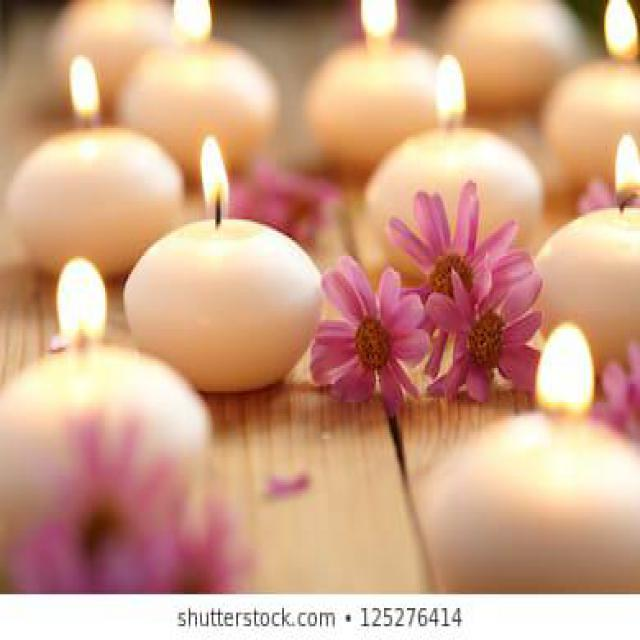Fire: (536, 324, 596, 416), (55, 257, 109, 346), (200, 138, 230, 222), (436, 56, 467, 132), (68, 56, 101, 127), (613, 131, 639, 210)
